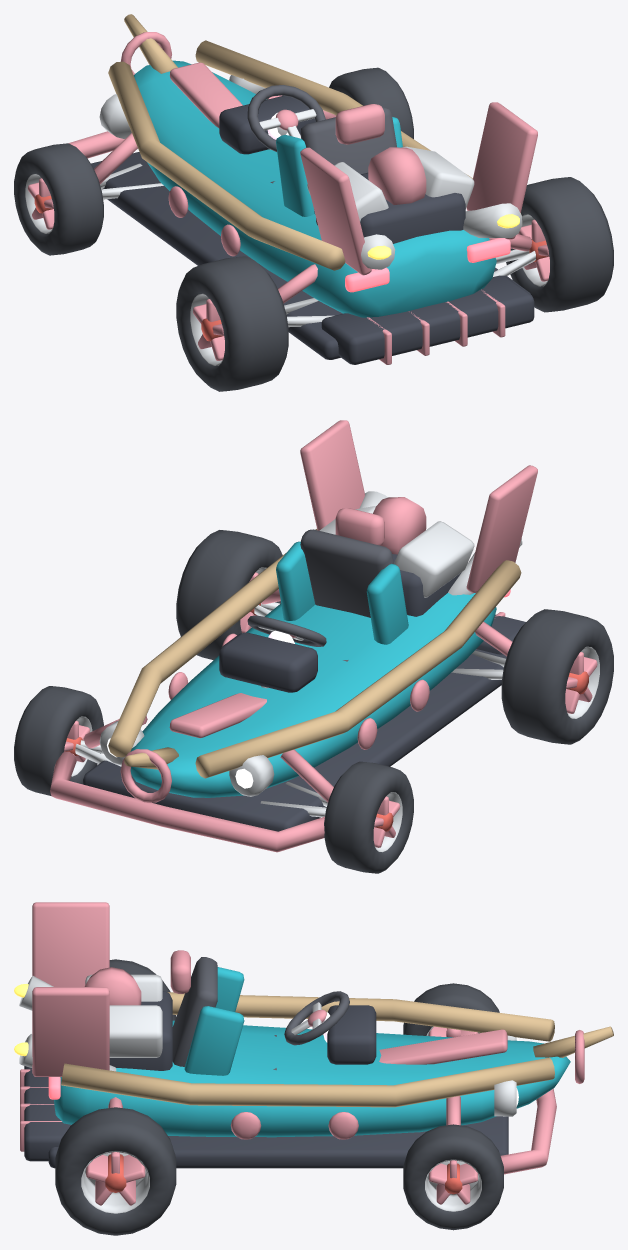
The model's file is brisa_corsaria.glb.
3 views of the same model, one above another, from view 1: azimuth 30°, elevation 25°; view 2: azimuth 150°, elevation 25°; view 3: azimuth 270°, elevation 25° (orthographic). The views are drawn at different scales.
Parts seen in each view (by area): view 1: brisa-corsaria_ChassisMesh, WheelRL_Mesh, WheelRR_Mesh, WheelFL_Mesh, WheelFR_Mesh, brisa-corsaria_SteeringWheelMesh, ExhaustR_Mesh, ExhaustL_Mesh; view 2: brisa-corsaria_ChassisMesh, WheelRL_Mesh, WheelFL_Mesh, WheelRR_Mesh, WheelFR_Mesh, brisa-corsaria_SteeringWheelMesh; view 3: brisa-corsaria_ChassisMesh, WheelRR_Mesh, WheelFR_Mesh, WheelFL_Mesh, brisa-corsaria_SteeringWheelMesh, ExhaustL_Mesh, WheelRL_Mesh, ExhaustR_Mesh.
Part boxes in pixels (box(x1,y1,x2,y2)): brisa-corsaria_ChassisMesh: box(68, 14, 537, 364); WheelRL_Mesh: box(176, 256, 288, 391); WheelRR_Mesh: box(506, 177, 613, 312); WheelFL_Mesh: box(14, 143, 103, 255); WheelFR_Mesh: box(329, 67, 413, 138); brisa-corsaria_SteeringWheelMesh: box(247, 85, 325, 151); ExhaustR_Mesh: box(463, 203, 522, 237); ExhaustL_Mesh: box(361, 234, 395, 269); brisa-corsaria_ChassisMesh: box(50, 420, 537, 852); WheelRL_Mesh: box(501, 609, 613, 744); WheelFL_Mesh: box(324, 761, 413, 873); WheelRR_Mesh: box(176, 530, 282, 660); WheelFR_Mesh: box(14, 686, 103, 795); brisa-corsaria_SteeringWheelMesh: box(247, 615, 326, 646); brisa-corsaria_ChassisMesh: box(20, 902, 613, 1174); WheelRR_Mesh: box(55, 1107, 176, 1235); WheelFR_Mesh: box(403, 1124, 503, 1230); WheelFL_Mesh: box(403, 983, 499, 1036); brisa-corsaria_SteeringWheelMesh: box(284, 991, 349, 1045); ExhaustL_Mesh: box(14, 976, 53, 1010); WheelRL_Mesh: box(109, 959, 176, 1020); ExhaustR_Mesh: box(14, 1034, 116, 1071).
Bounding box in the file's own units: 2.02 × 1.12 × 2.95.
